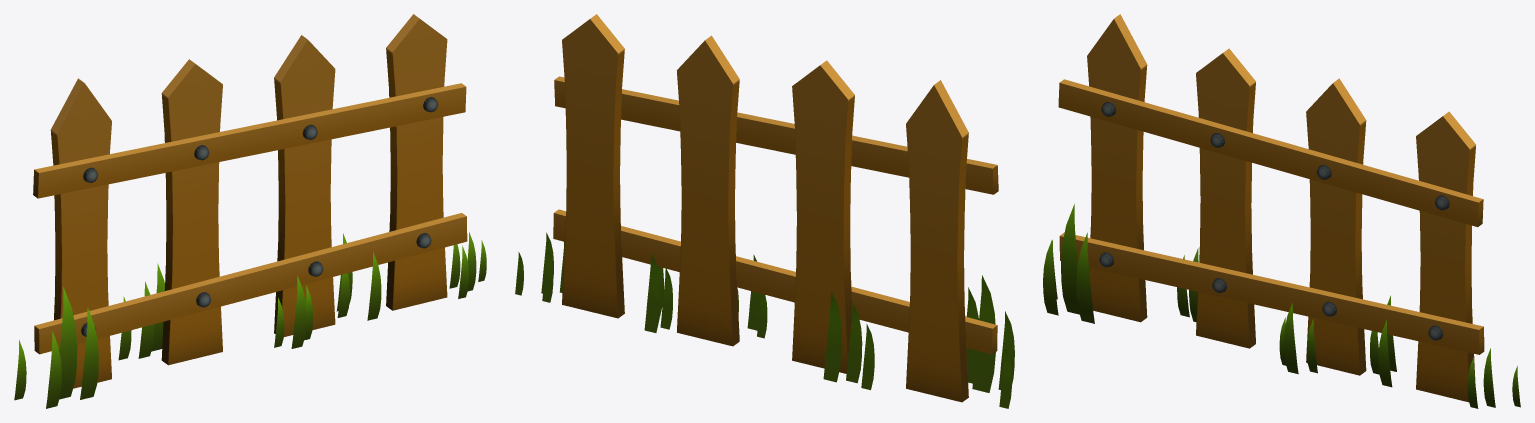
Rendered from MESH_Barriere02.fbx.
The picture shows the model from 3 angles, left to right: view 1: azimuth 30°, elevation 25°; view 2: azimuth 150°, elevation 25°; view 3: azimuth 330°, elevation 25°; orthographic projection. The views are drawn at different scales.
Parts seen in each view (by area): view 1: MESH_Barriere02; view 2: MESH_Barriere02; view 3: MESH_Barriere02.
Part boxes in pixels (box(x1,y1,x2,y2)): MESH_Barriere02: box(14, 14, 486, 408); MESH_Barriere02: box(515, 14, 1014, 408); MESH_Barriere02: box(1043, 14, 1520, 408).
Size of the model in its own units: 2.47 by 1.5 by 0.3334.
